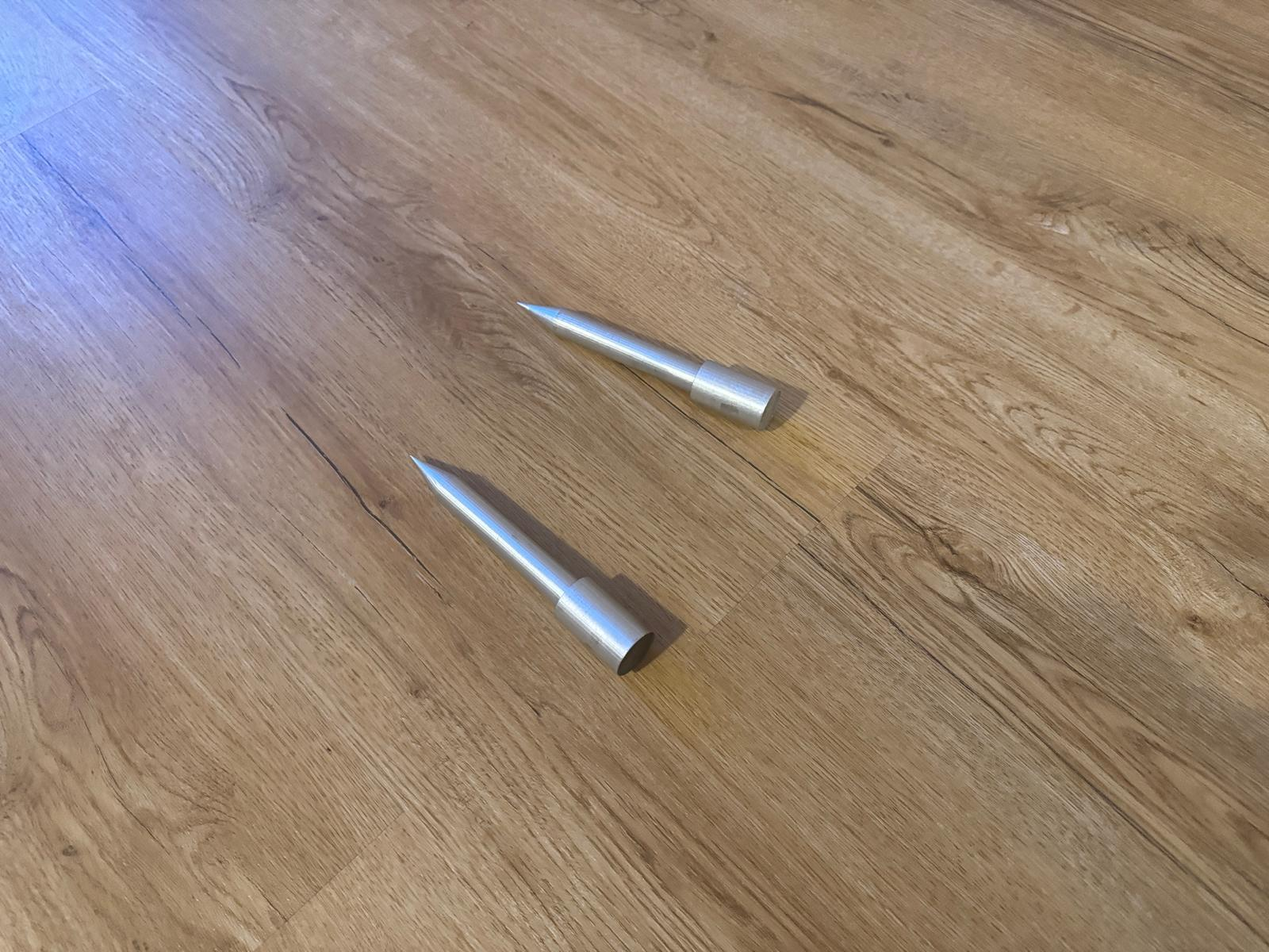probes: (406, 455, 654, 676), (516, 298, 781, 431)
